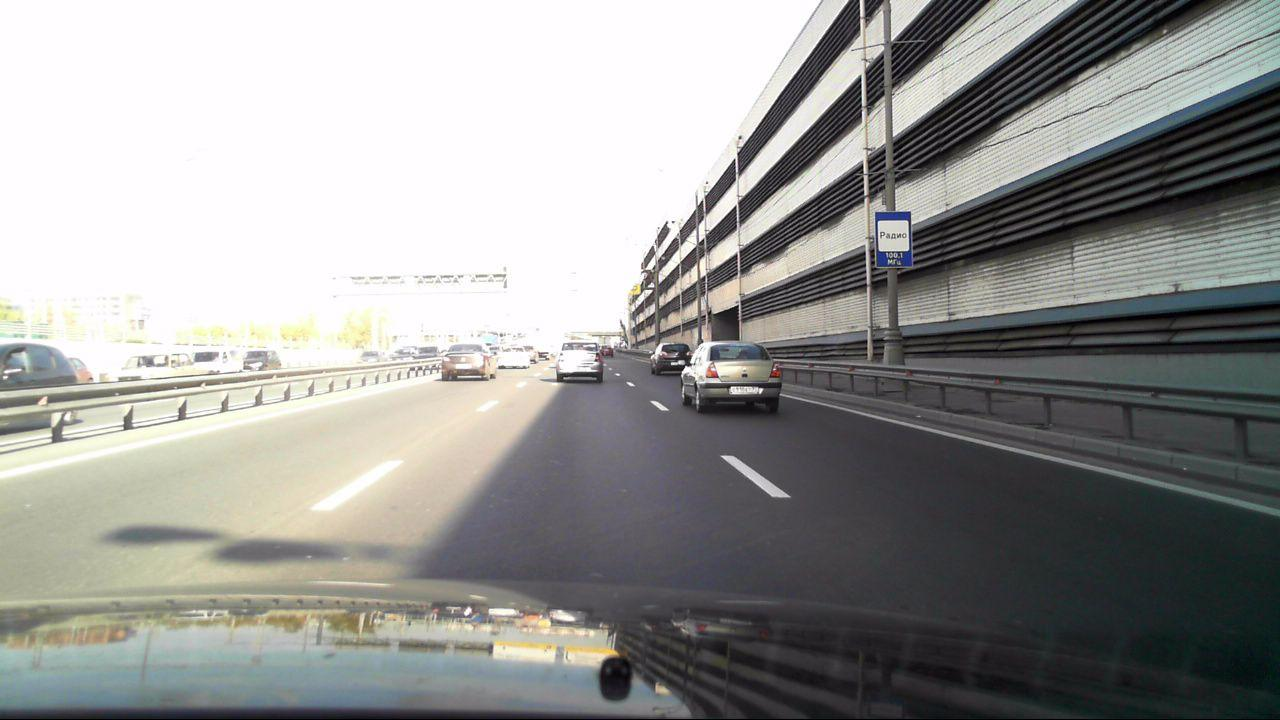7_15: (875, 212, 913, 269)
